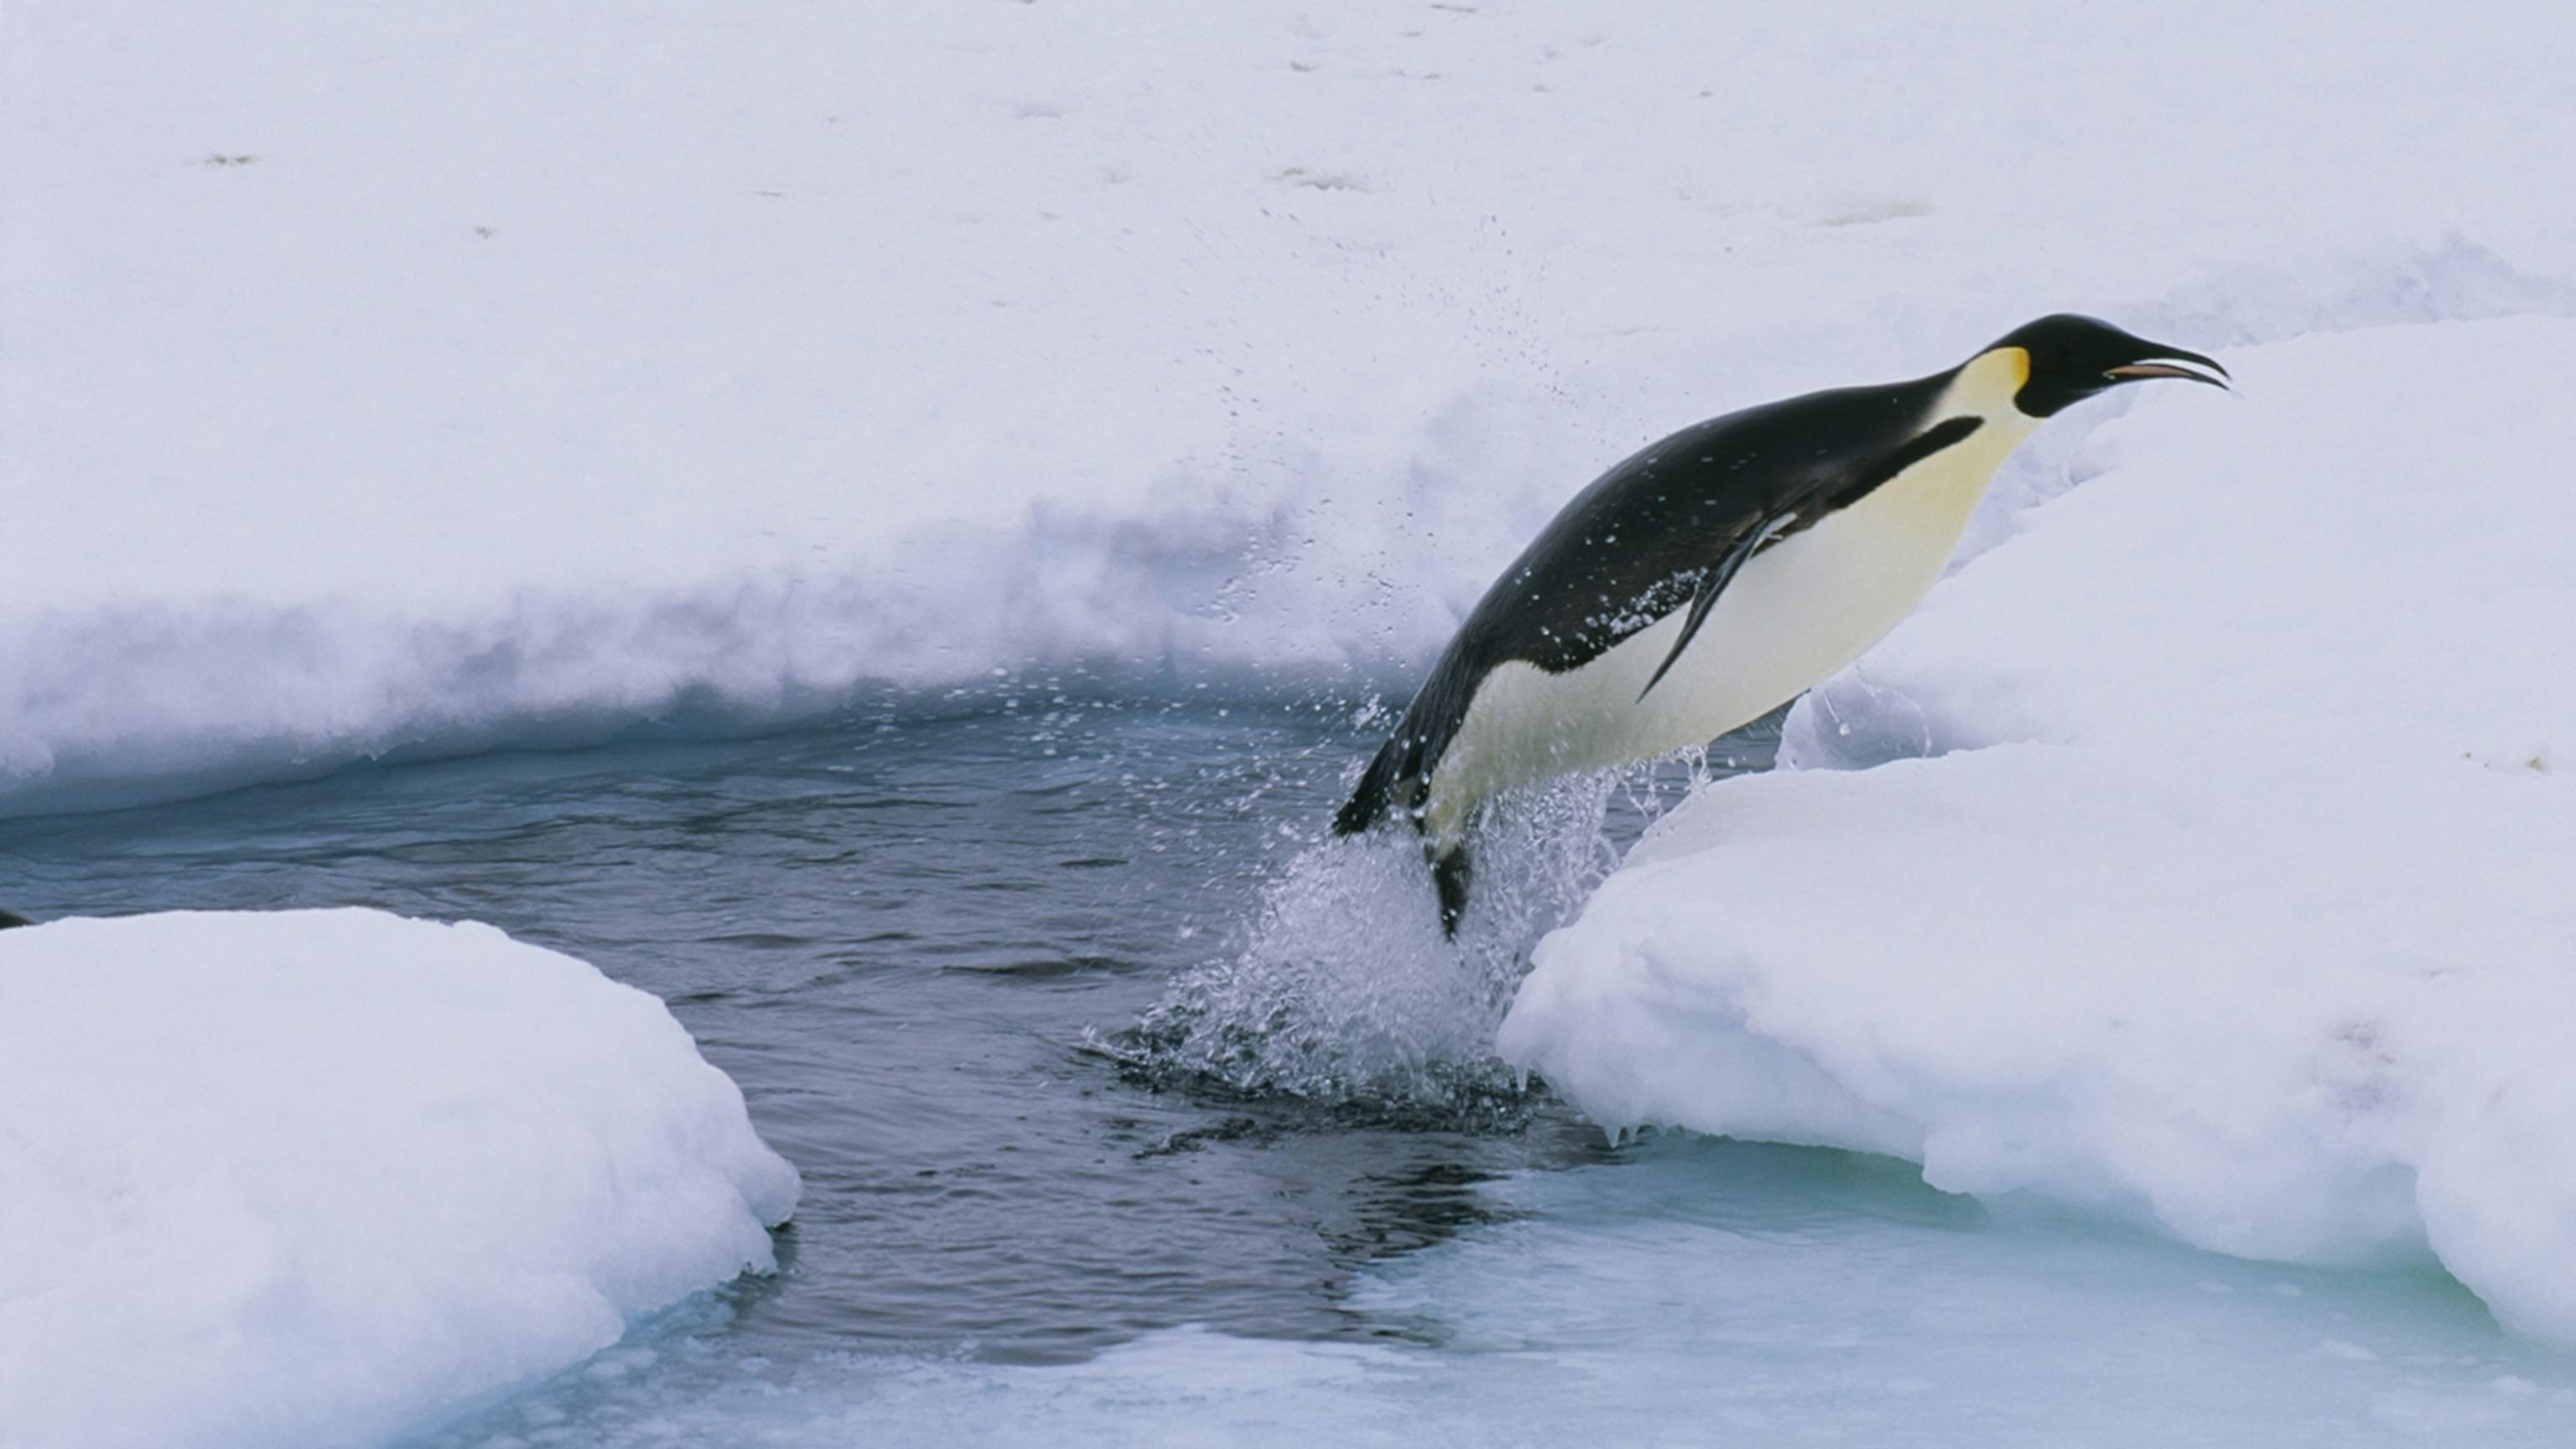emporer: (1261, 242, 2265, 941)
